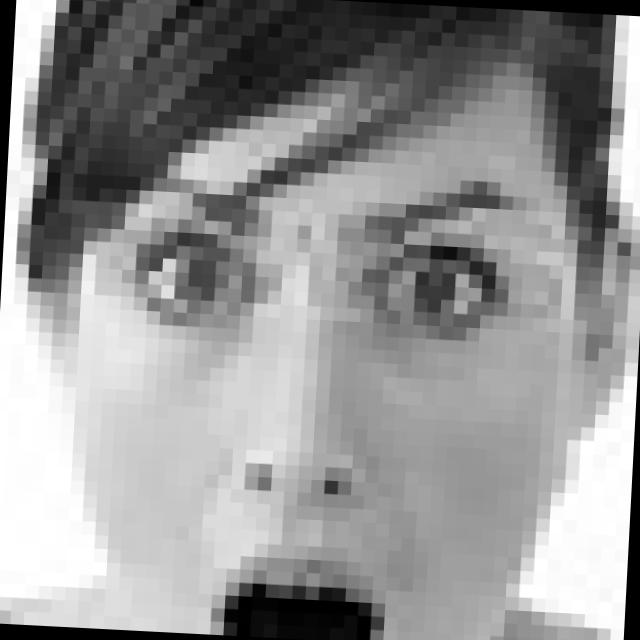surprise: (99, 165, 542, 640)
